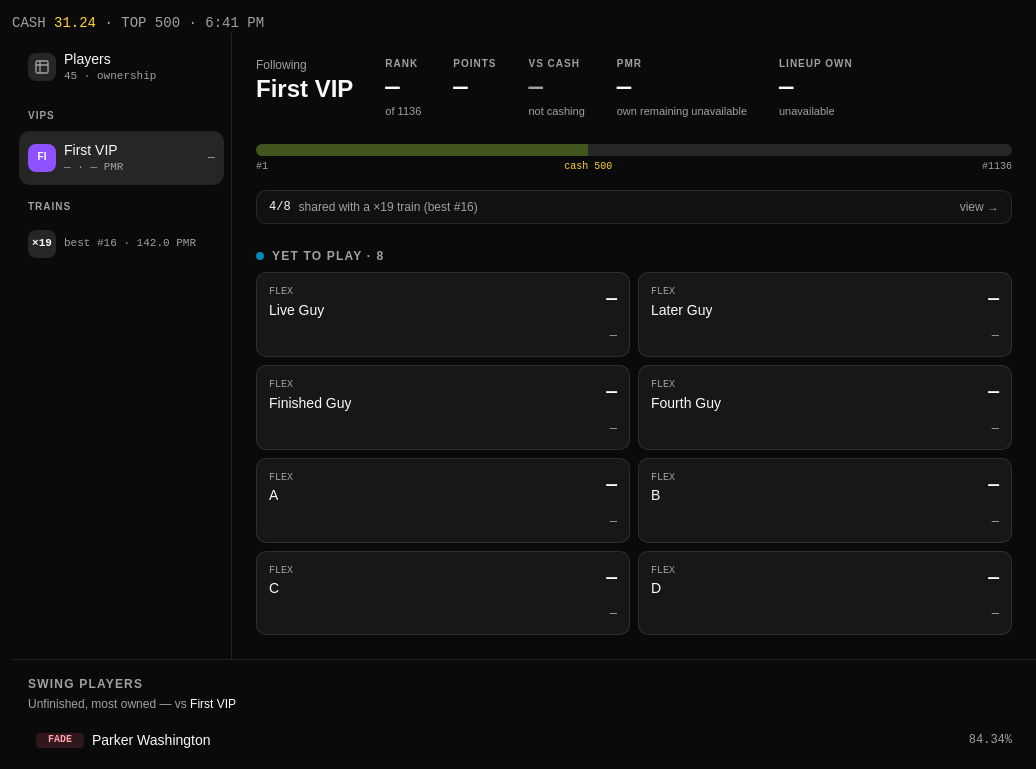
Test: VIP view overlap notice › goes to the train when followed
Click the link "4/8 shared with a ×19 train (best #16) view →". click: (359,207)
box: x1=256 y1=190 x2=1012 y2=224
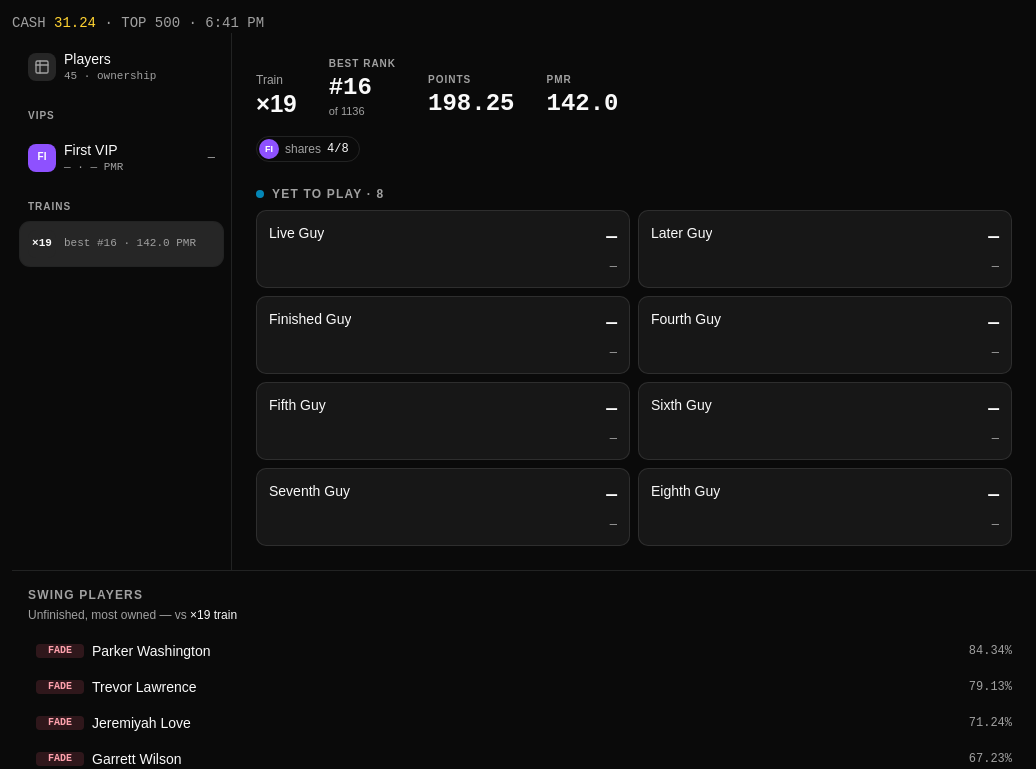
Expected: the heading "×19" is shown, x1=256 y1=88 x2=297 y2=120
